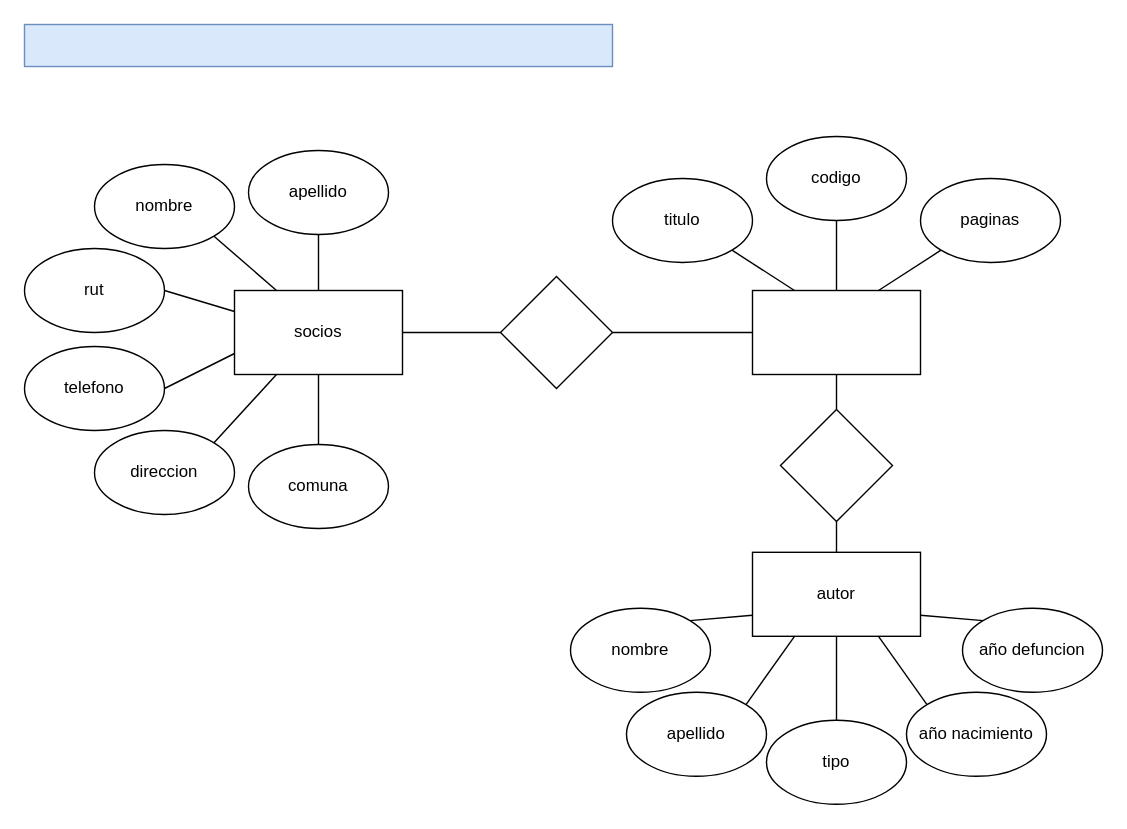
Image size: 1127x829. Some labels were removed from this diagram. The centre of each missing label's shape, as x and y in pixels:
"escribe" goes at (x=835, y=465).
"libros" goes at (x=835, y=331).
"Modelo conceptual base de datos BIBLIOTECA" goes at (x=317, y=44).
"solicita" goes at (x=555, y=331).
